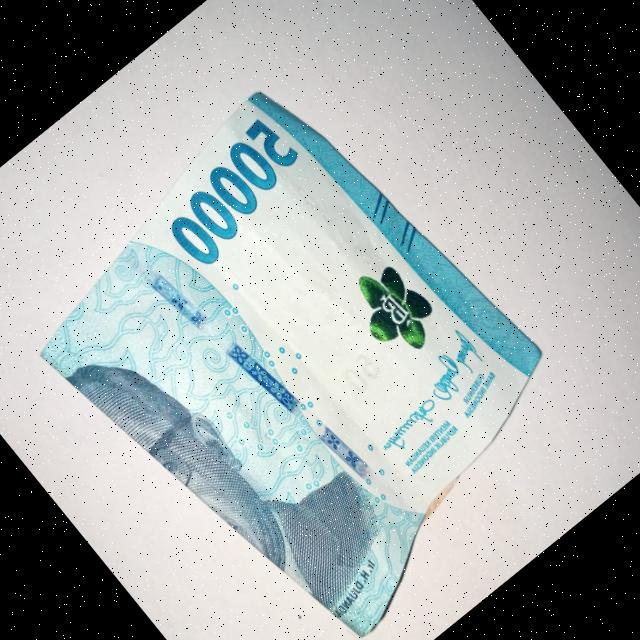50K: (0, 44, 618, 640)
